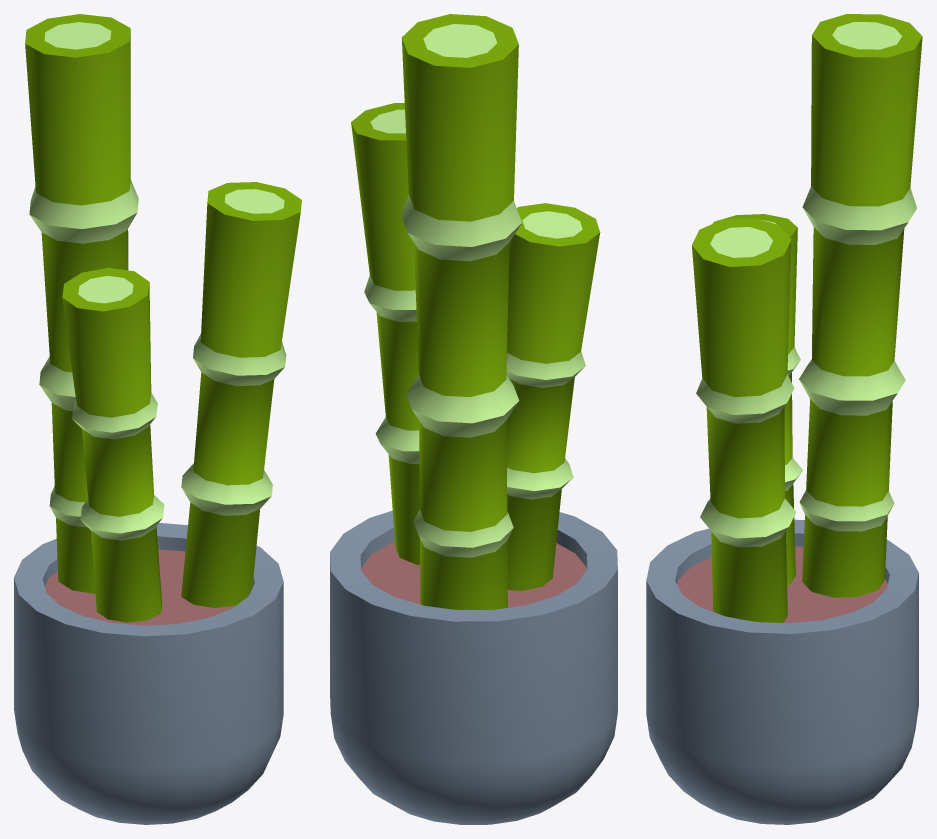
File: bamboo.glb
The picture shows the model from 3 angles, left to right: view 1: azimuth 30°, elevation 25°; view 2: azimuth 150°, elevation 25°; view 3: azimuth 270°, elevation 25°; orthographic projection. The views are drawn at different scales.
Visible parts, largest first — view 1: Decoration_Bamboo; view 2: Decoration_Bamboo; view 3: Decoration_Bamboo.
Part boxes in pixels (bbox=[...]): Decoration_Bamboo: bbox=[14, 14, 301, 824]; Decoration_Bamboo: bbox=[330, 14, 617, 824]; Decoration_Bamboo: bbox=[646, 14, 922, 824].
Bounding box in the file's own units: 0.9851 × 2.88 × 0.9567.
Materials: 1 (1 with a texture image).
